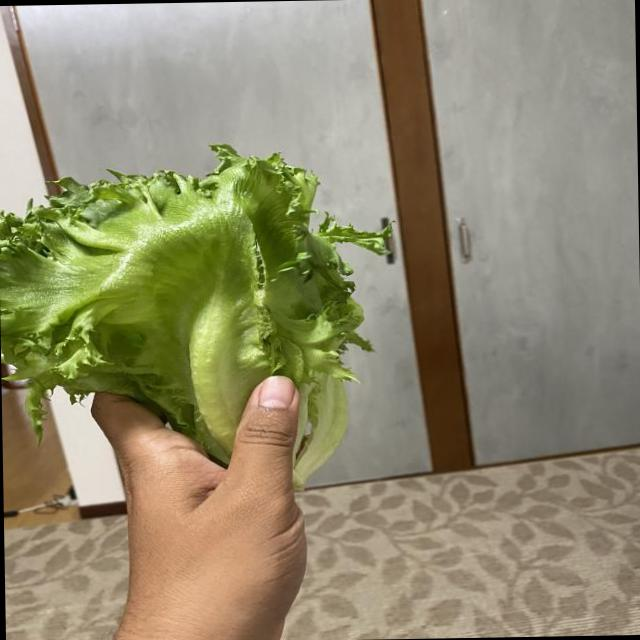Lettuce-Ready-to-Harvest: (0, 144, 391, 486)
